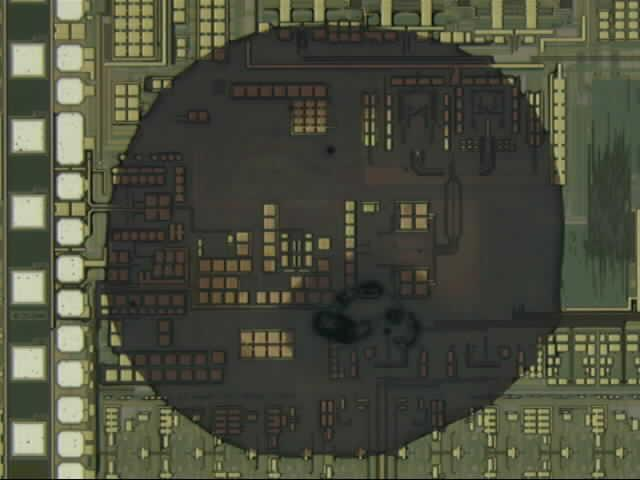PO CONTAMINATION: (103, 19, 575, 465)
